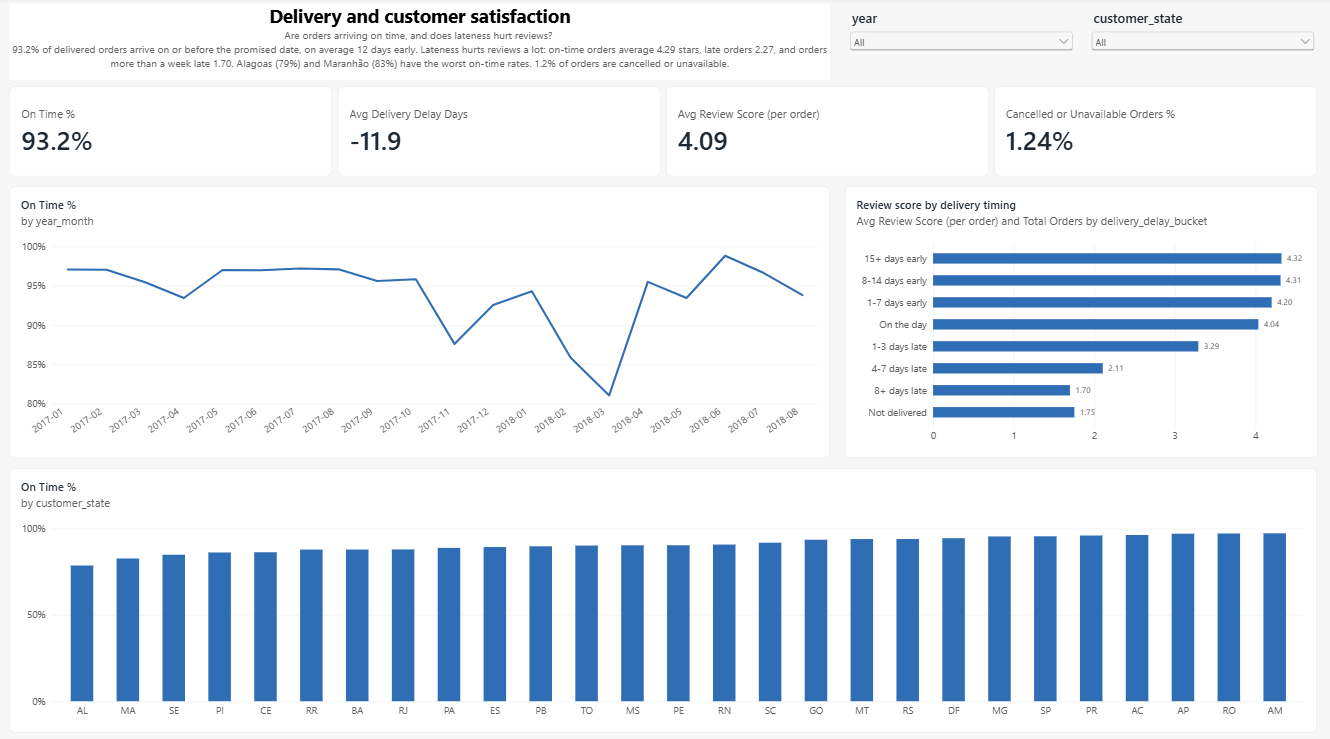

What the dashboard file says about the page in this screenshot:
{"tool":"powerbi","page":{"name":"Delivery & Satisfaction","canvas":[1920,1080],"ordinal":1},"visuals":[{"type":"cardVisual","fields":{"Data":["_Measures.On Time %","_Measures.Avg Delivery Delay Days","_Measures.Avg Review Score (per order)","_Measures.Cancelled or Unavailable Orders %"]},"box":[20,130,1880,130],"z":0},{"type":"lineChart","fields":{"Category":["dim_date.year_month"],"Y":["_Measures.On Time %"]},"box":[20,275,1180,390.4],"z":1000},{"type":"clusteredColumnChart","fields":{"Category":["dim_customers.customer_state"],"Y":["_Measures.On Time %"]},"box":[20,680,1880,380],"z":2000},{"type":"clusteredBarChart","title":"Review score by delivery timing","fields":{"Category":["fct_orders.delivery_delay_bucket"],"Y":["_Measures.Avg Review Score (per order)"]},"box":[1220,275,680,390],"z":3000},{"type":"slicer","fields":{"Values":["dim_date.year"]},"box":[1223.1,19.4,330,80],"z":4000},{"type":"textbox","box":[20,10,1180,110],"z":5000},{"type":"slicer","fields":{"Values":["dim_customers.customer_state"]},"box":[1570,20,330,80],"z":6000}]}

Visuals, with their boxes in screenshot pixels (x1, y1, x2, y2), scaled from the page's 1920x1080 canvas onto the 1330x739 screenshot:
cardVisual - _Measures.On Time % x _Measures.Avg Delivery Delay Days: bbox=[14, 89, 1316, 178]
lineChart - dim_date.year_month x _Measures.On Time %: bbox=[14, 188, 831, 455]
clusteredColumnChart - dim_customers.customer_state x _Measures.On Time %: bbox=[14, 465, 1316, 725]
"Review score by delivery timing" clusteredBarChart: bbox=[845, 188, 1316, 455]
slicer - dim_date.year: bbox=[847, 13, 1076, 68]
textbox: bbox=[14, 7, 831, 82]
slicer - dim_customers.customer_state: bbox=[1088, 14, 1316, 68]
